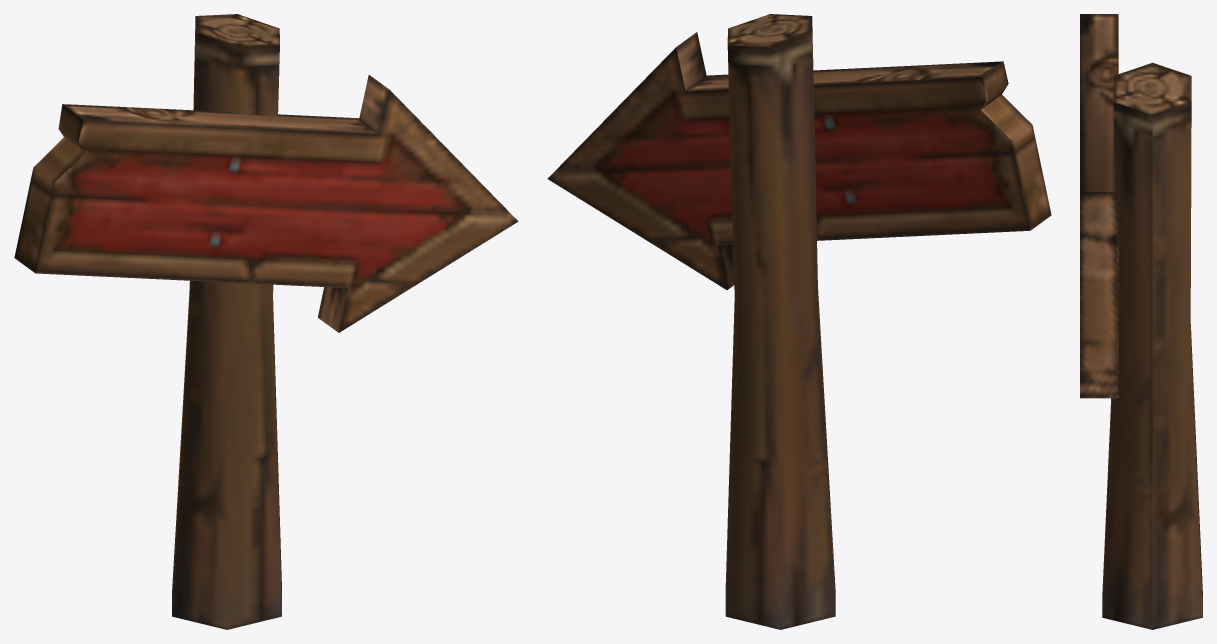
The model's file is 2_YiZhan_ZaWu_ZhiShiPai_02.FBX.
The picture shows the model from 3 angles, left to right: view 1: azimuth 30°, elevation 25°; view 2: azimuth 150°, elevation 25°; view 3: azimuth 270°, elevation 25°; orthographic projection. The views are drawn at different scales.
Parts seen in each view (by area): view 1: 2_YiZhan_ZaWu_ZhiShiPai_02; view 2: 2_YiZhan_ZaWu_ZhiShiPai_02; view 3: 2_YiZhan_ZaWu_ZhiShiPai_02.
Part boxes in pixels (left/top/right/bottom): 2_YiZhan_ZaWu_ZhiShiPai_02: left=14, top=14, right=518, bottom=629; 2_YiZhan_ZaWu_ZhiShiPai_02: left=547, top=14, right=1051, bottom=629; 2_YiZhan_ZaWu_ZhiShiPai_02: left=1080, top=14, right=1202, bottom=629.
Size of the model in its own units: 224 by 256 by 53.9.
Materials: 1 (1 with a texture image).
